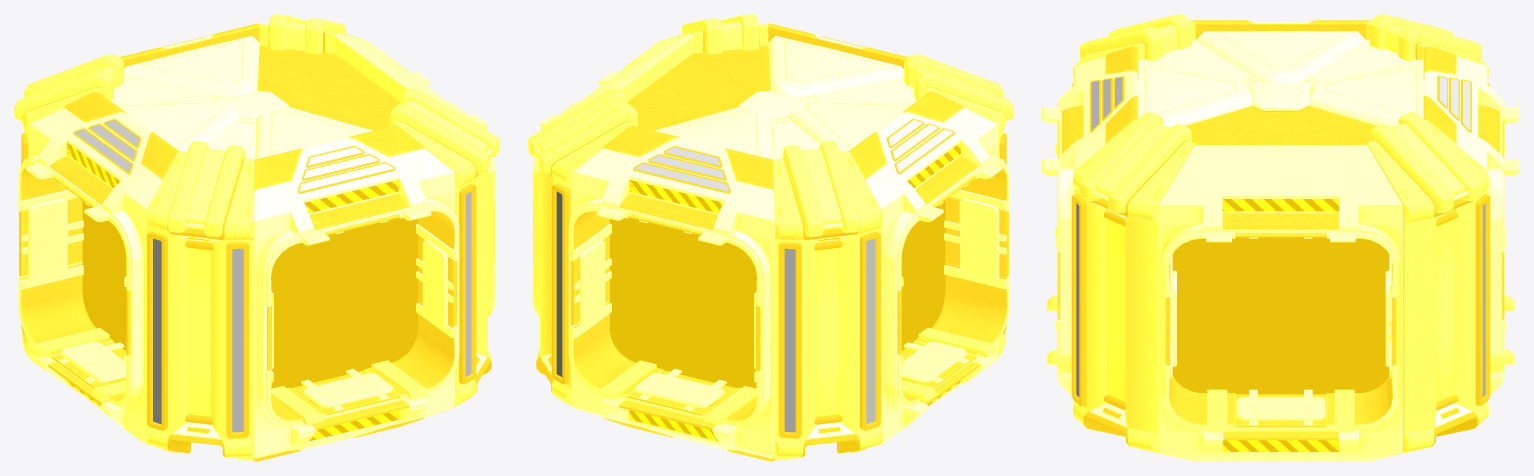
File: priority-full.glb
3 renders of one model, left to right at view 1: azimuth 30°, elevation 25°; view 2: azimuth 150°, elevation 25°; view 3: azimuth 270°, elevation 25°, orthographic. The views are drawn at different scales.
Parts seen in each view (by area): view 1: SM_PriorityMerger_01; view 2: SM_PriorityMerger_01; view 3: SM_PriorityMerger_01.
Part boxes in pixels (box(x1,y1,x2,y2)): SM_PriorityMerger_01: box(14, 14, 499, 461); SM_PriorityMerger_01: box(528, 14, 1013, 461); SM_PriorityMerger_01: box(1042, 14, 1519, 461).
Size of the model in its own units: 4.13 by 3.13 by 4.13.
Materials: 2 (1 with a texture image).
